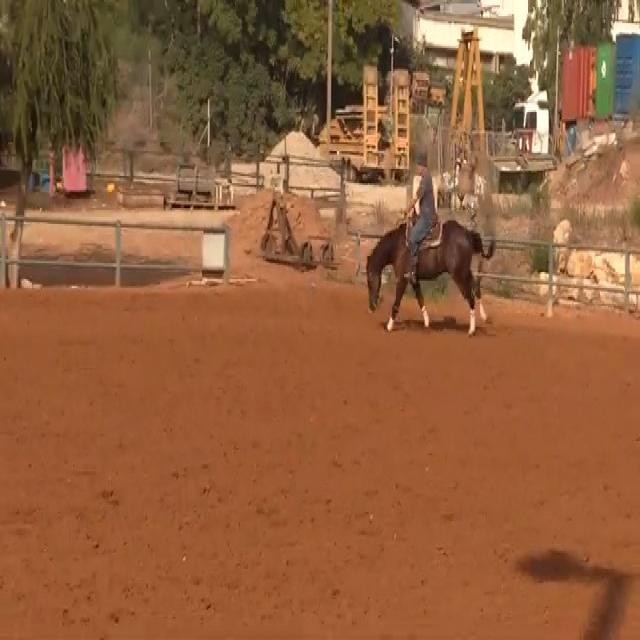horse: (363, 213, 496, 336)
